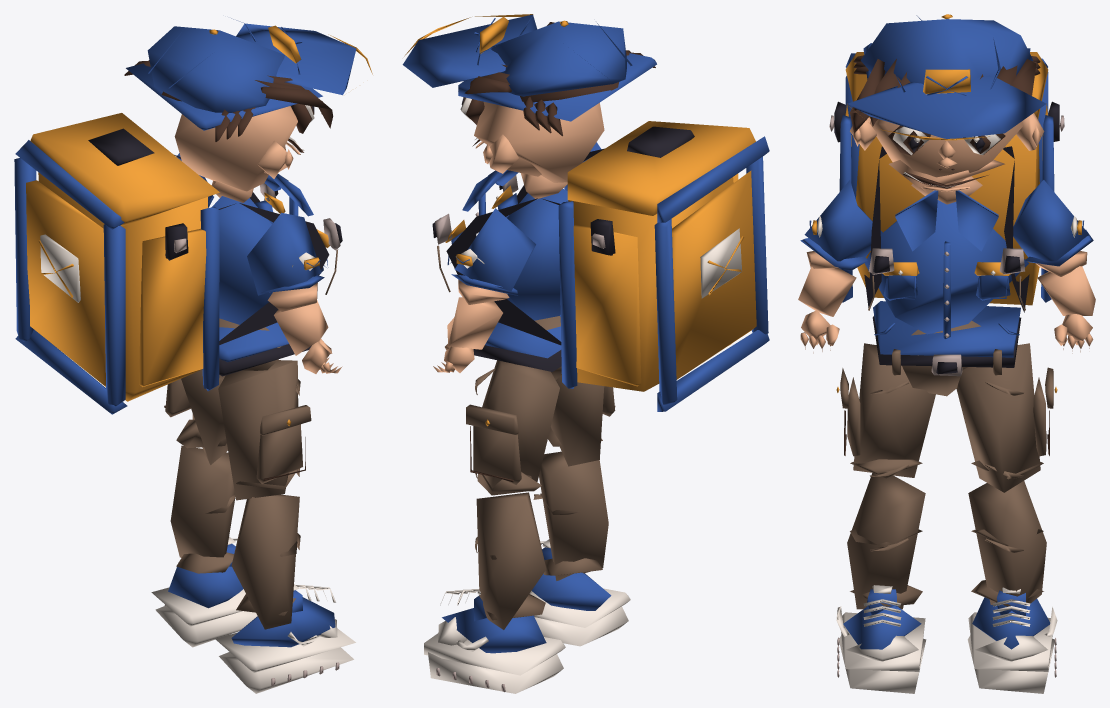
The model's file is npc.patient-zero-courier.lod2.glb.
3 renders of one model, left to right at view 1: azimuth 30°, elevation 25°; view 2: azimuth 150°, elevation 25°; view 3: azimuth 270°, elevation 25°, orthographic. The views are drawn at different scales.
Visible parts, largest first — view 1: torso, head, legR, footR, shinR, shinL, footL, armR, legL, foreArmR, hip, handR; view 2: torso, head, footL, legL, shinL, shinR, footR, armL, legR, foreArmL, hip, handL; view 3: torso, head, legL, shinR, legR, footL, footR, shinL, armL, armR, hip, foreArmR (+3 smaller).
Boxes of the visible parts, x1,y1,x2,y2 form: torso: (14, 113, 342, 414); head: (124, 18, 372, 202); legR: (218, 360, 311, 549); footR: (215, 584, 355, 693); shinR: (231, 469, 299, 629); shinL: (170, 419, 235, 573); footL: (151, 536, 257, 647); armR: (247, 212, 324, 311); legL: (164, 369, 227, 464); foreArmR: (274, 300, 328, 355); hip: (219, 318, 311, 380); handR: (302, 339, 342, 373); torso: (432, 121, 769, 411); head: (402, 14, 656, 199); footL: (424, 589, 565, 693); legL: (466, 360, 559, 552); shinL: (476, 472, 546, 629); shinR: (539, 427, 608, 580); footR: (529, 539, 630, 646); armL: (451, 208, 535, 304); legR: (533, 375, 615, 499); foreArmL: (447, 297, 502, 349); hip: (473, 316, 561, 379); handL: (433, 344, 474, 372); torso: (829, 52, 1064, 357); head: (847, 14, 1046, 204); legL: (956, 343, 1057, 552); shinR: (847, 459, 925, 609); legR: (836, 343, 935, 551); footL: (967, 587, 1057, 693); footR: (836, 585, 926, 693); shinL: (968, 460, 1046, 606); armL: (1013, 180, 1093, 276); armR: (800, 180, 882, 271); hip: (872, 315, 1021, 396); foreArmR: (798, 266, 856, 316).
Bounding box in the file's own units: 0.8805 × 1.75 × 0.7402.
